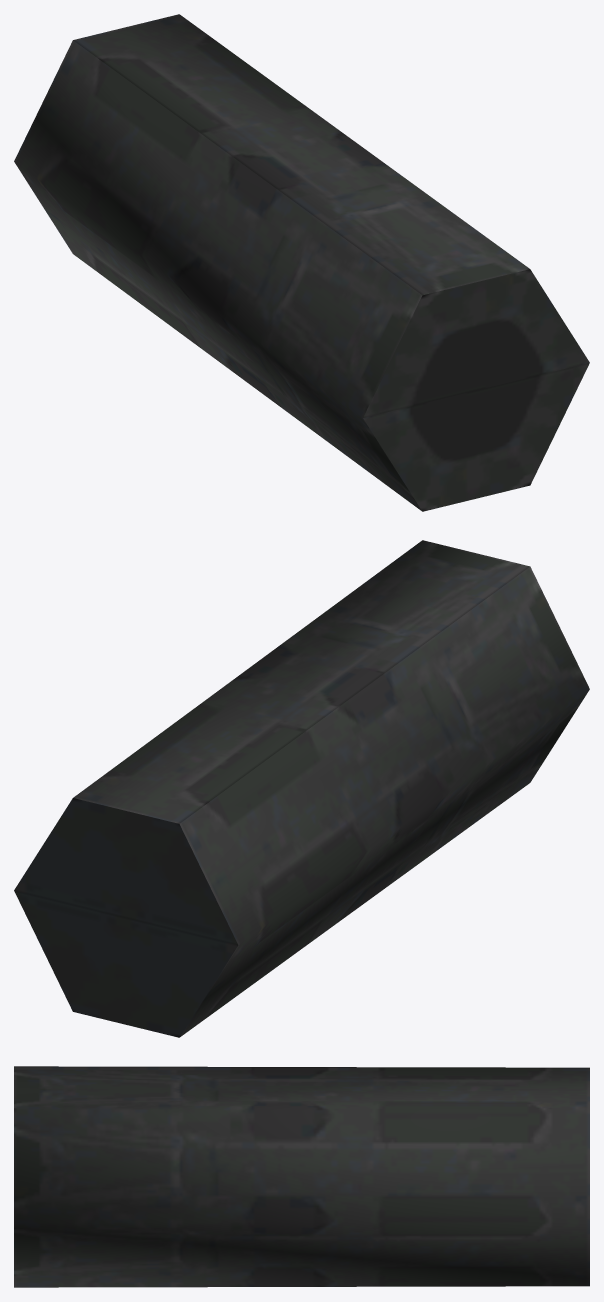
File: Pickup_WeaponZj12.glb
3 renders of one model, top to bottom at view 1: azimuth 30°, elevation 25°; view 2: azimuth 150°, elevation 25°; view 3: azimuth 270°, elevation 25°, orthographic. The views are drawn at different scales.
Parts seen in each view (by area): view 1: pk_weapon_zj12; view 2: pk_weapon_zj12; view 3: pk_weapon_zj12.
Boxes of the visible parts, x1,y1,x2,y2 form: pk_weapon_zj12: [14, 14, 589, 511]; pk_weapon_zj12: [14, 540, 589, 1037]; pk_weapon_zj12: [14, 1066, 589, 1287].
Size of the model in its own units: 0.0817 by 0.0744 by 0.2182.
1 material, 1 textured.
